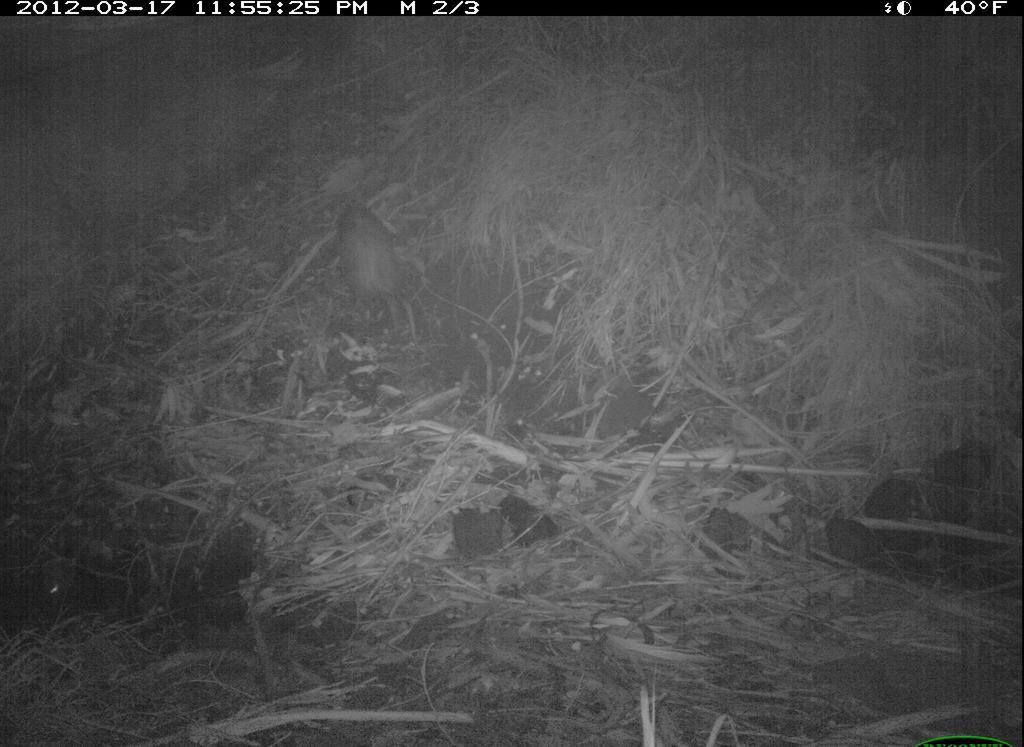opossum: (328, 193, 417, 342)
